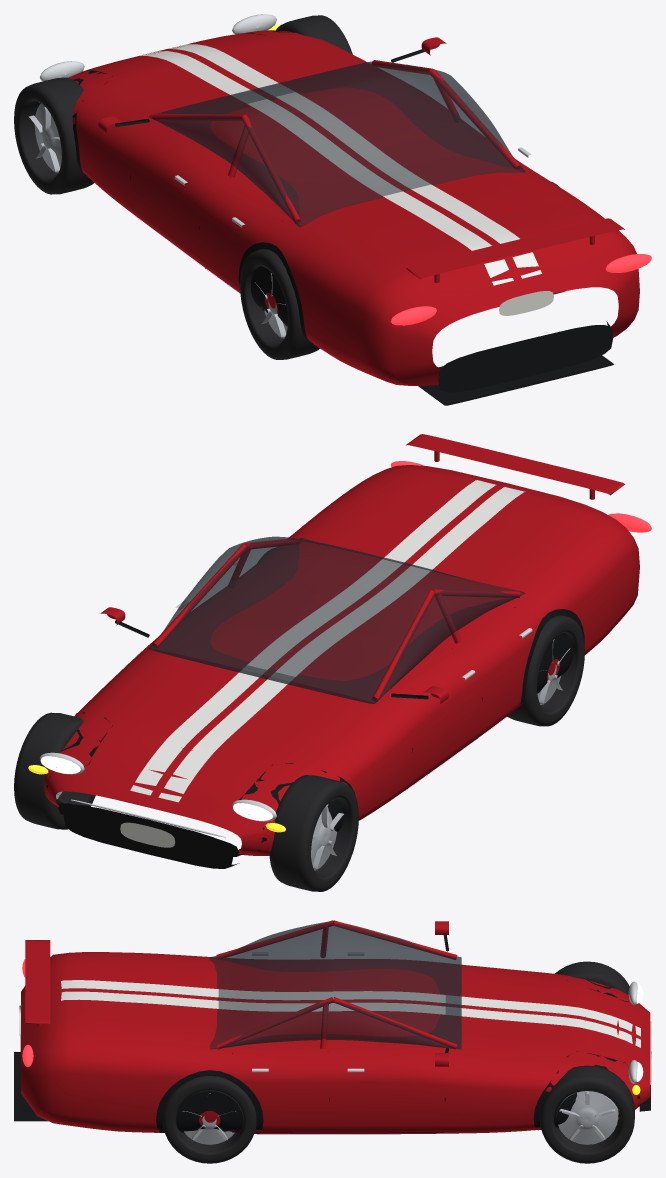
The model's file is sports-car.3f755dd5.glb.
The picture shows the model from 3 angles, top to bottom: view 1: azimuth 30°, elevation 25°; view 2: azimuth 150°, elevation 25°; view 3: azimuth 270°, elevation 25°; orthographic projection. The views are drawn at different scales.
Visible parts, largest first — view 1: chassis, wheel_fl, wheel_rl, wheel_fr; view 2: chassis, wheel_fl, wheel_fr, wheel_rl; view 3: chassis, wheel_fr, wheel_rr, wheel_fl.
Boxes of the visible parts, box(x1,y1,x2,y2) form: chassis: box(40, 14, 651, 405); wheel_fl: box(14, 77, 94, 194); wheel_rl: box(240, 249, 319, 359); wheel_fr: box(275, 15, 352, 54); chassis: box(28, 434, 651, 868); wheel_fl: box(269, 775, 358, 891); wheel_fr: box(14, 712, 95, 829); wheel_rl: box(507, 615, 584, 726); chassis: box(14, 920, 651, 1134); wheel_fr: box(540, 1065, 634, 1163); wheel_rr: box(162, 1076, 256, 1163); wheel_fl: box(555, 961, 629, 994).
Size of the model in its own units: 2.36 by 1.18 by 4.56.
